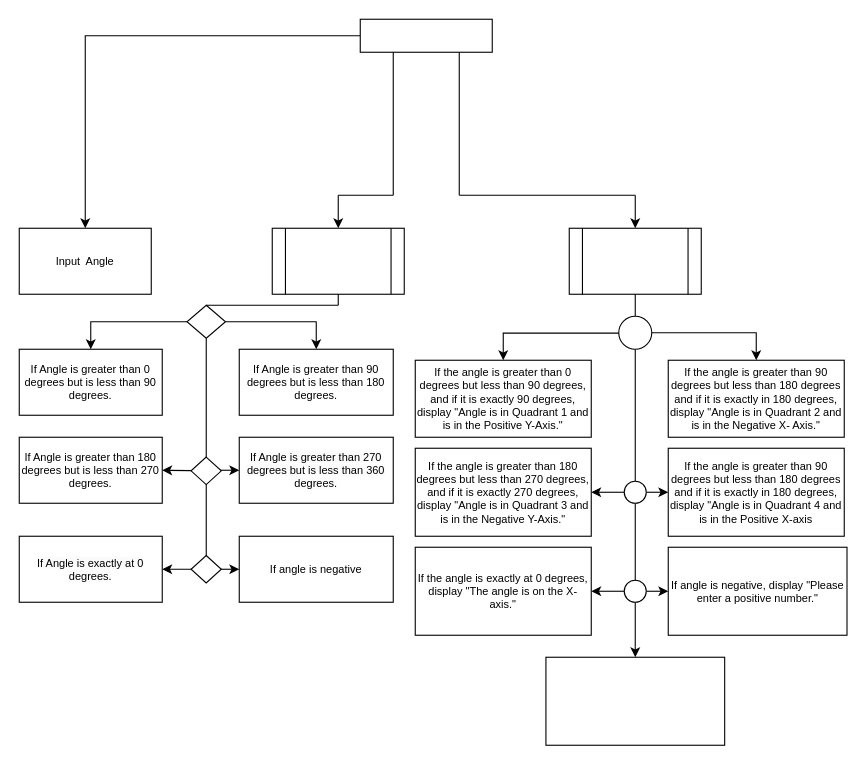
This 867x765 diagram has some shape labels left out. Here are the shapes that lost their labels. From the top down, the centre of each, then its label:
the point at 425,35: QUADRANTS
the point at 337,260: Determine Angle
the point at 634,260: Print Quadrant
the point at 635,700: If the angle is invalid, display "Angle is invalid."
